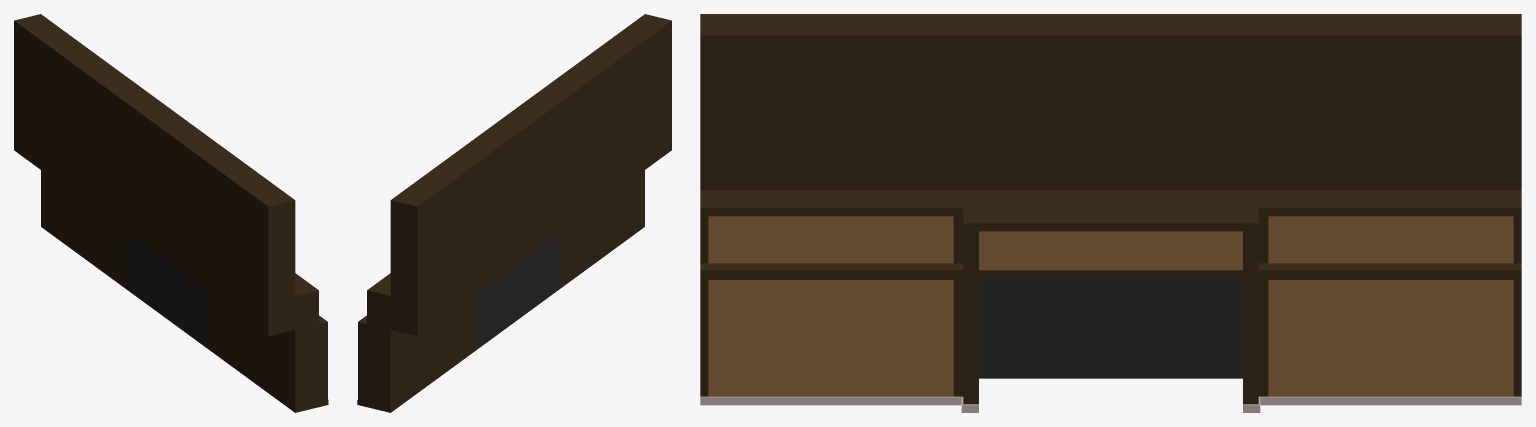
The model's file is RealWall.fbx.
3 renders of one model, left to right at view 1: azimuth 30°, elevation 25°; view 2: azimuth 150°, elevation 25°; view 3: azimuth 270°, elevation 25°, orthographic. The views are drawn at different scales.
Parts seen in each view (by area): view 1: Cube.001; view 2: Cube.001; view 3: Cube.001.
Part boxes in pixels (bbox=[...]): Cube.001: bbox=[14, 14, 328, 412]; Cube.001: bbox=[357, 14, 671, 412]; Cube.001: bbox=[700, 14, 1521, 412].
Size of the model in its own units: 1707 by 4927 by 10677.
